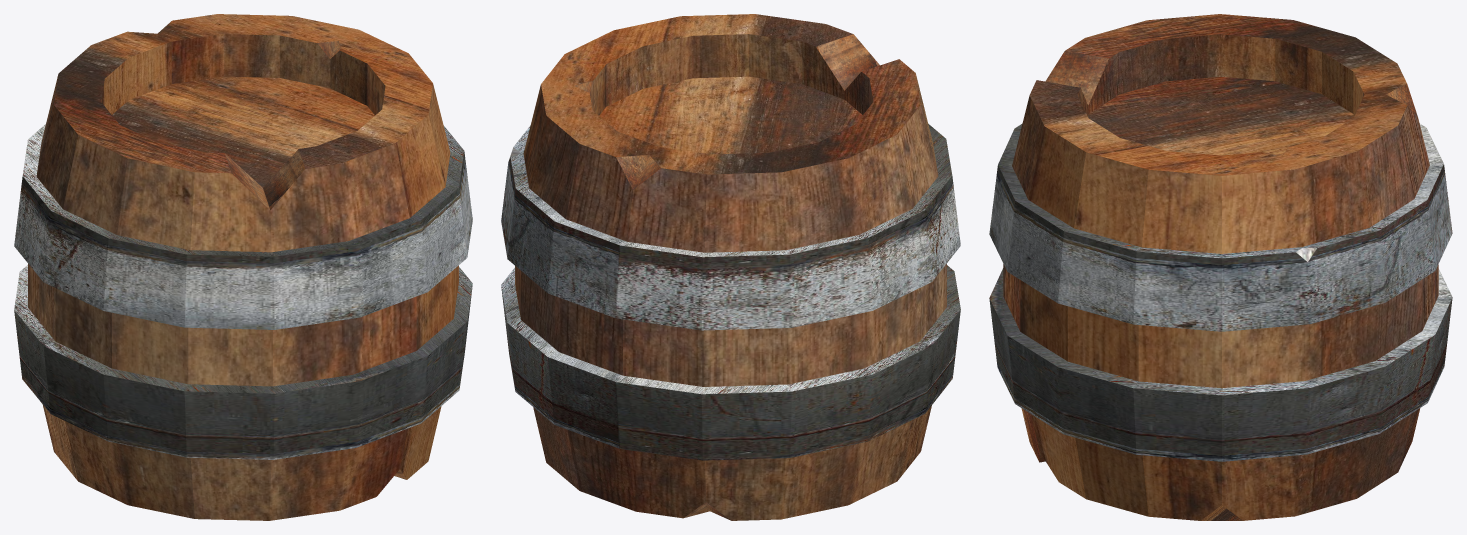
Rendered from TexturedBarrel.fbx.
3 views of the same model, side by side, from view 1: azimuth 30°, elevation 25°; view 2: azimuth 150°, elevation 25°; view 3: azimuth 270°, elevation 25° (orthographic).
Parts seen in each view (by area): view 1: Cylinder.003; view 2: Cylinder.003; view 3: Cylinder.003.
Boxes of the visible parts, box(x1,y1,x2,y2) form: Cylinder.003: box(14, 14, 472, 520); Cylinder.003: box(501, 14, 960, 520); Cylinder.003: box(989, 14, 1452, 520).
Bounding box in the file's own units: 242 × 200 × 242.
2 materials, 2 textured.
